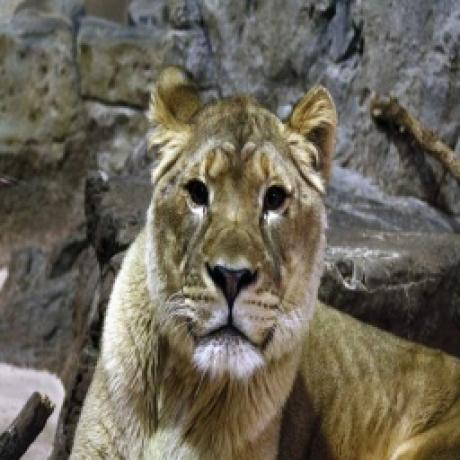Lion: (66, 79, 460, 460)
